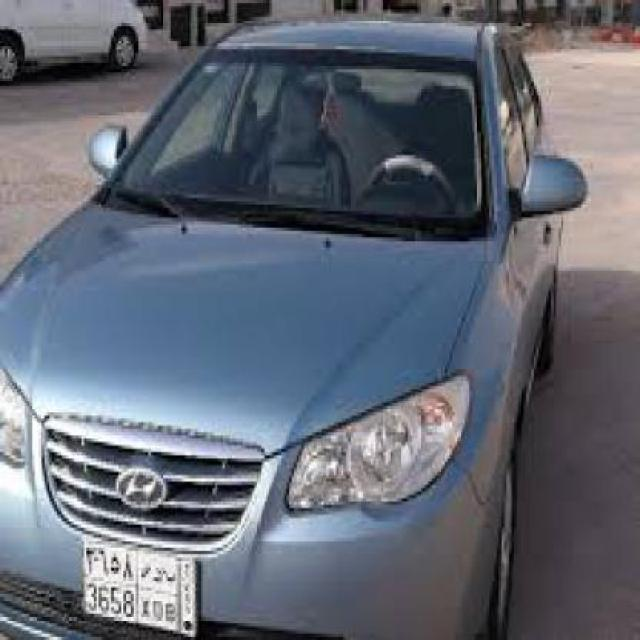license_plate: (80, 532, 206, 636)
